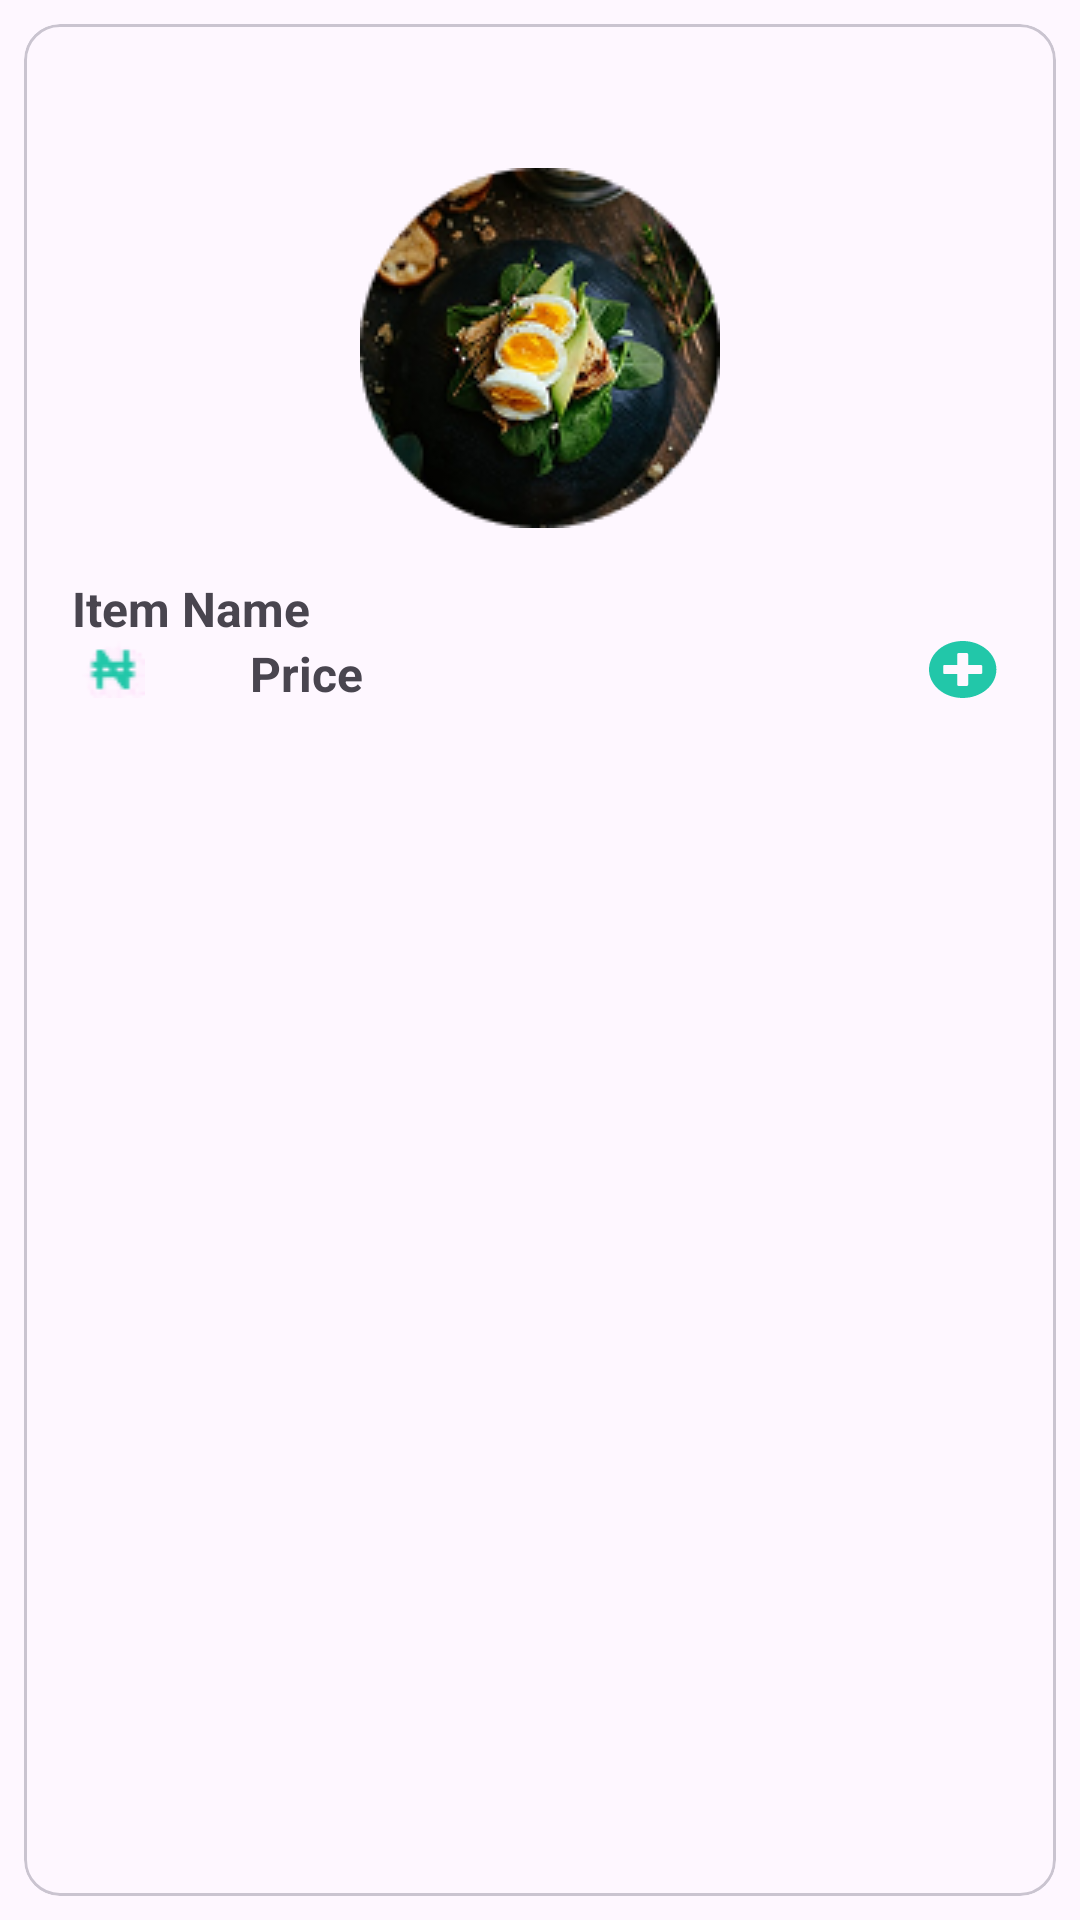

Screen size 1080px×1920px. Icon name, then its box in pixels as Rect(x1, y1, x2, y2):
add: Rect(929, 641, 997, 698)
